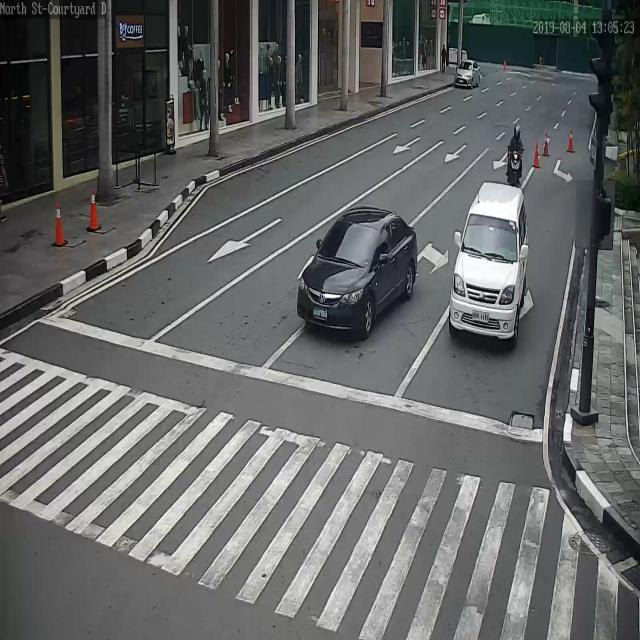car: (298, 205, 419, 340), (451, 185, 531, 341), (455, 61, 483, 90)
jeepney: (506, 122, 524, 185)
